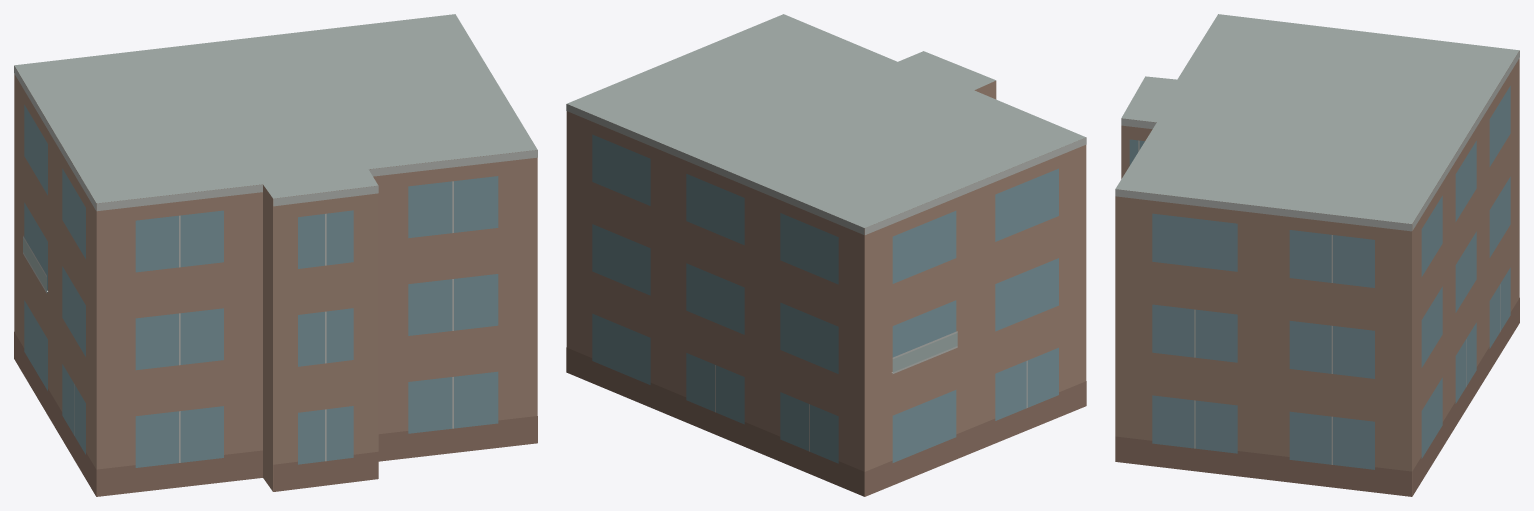
Rendered from survey-upis-32584454.glb.
3 renders of one model, left to right at view 1: azimuth 30°, elevation 25°; view 2: azimuth 150°, elevation 25°; view 3: azimuth 270°, elevation 25°, orthographic. The views are drawn at different scales.
Parts seen in each view (by area): view 1: survey-upis-32584454.tmp; view 2: survey-upis-32584454.tmp; view 3: survey-upis-32584454.tmp.
Boxes of the visible parts, left/top/right/bottom form: survey-upis-32584454.tmp: left=14, top=14, right=537, bottom=496; survey-upis-32584454.tmp: left=566, top=14, right=1086, bottom=496; survey-upis-32584454.tmp: left=1115, top=14, right=1519, bottom=496.
Bounding box in the file's own units: 15.13 × 9.15 × 12.31.
